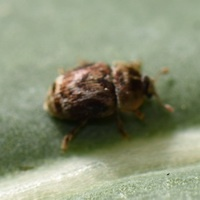insect: (46, 62, 173, 150)
